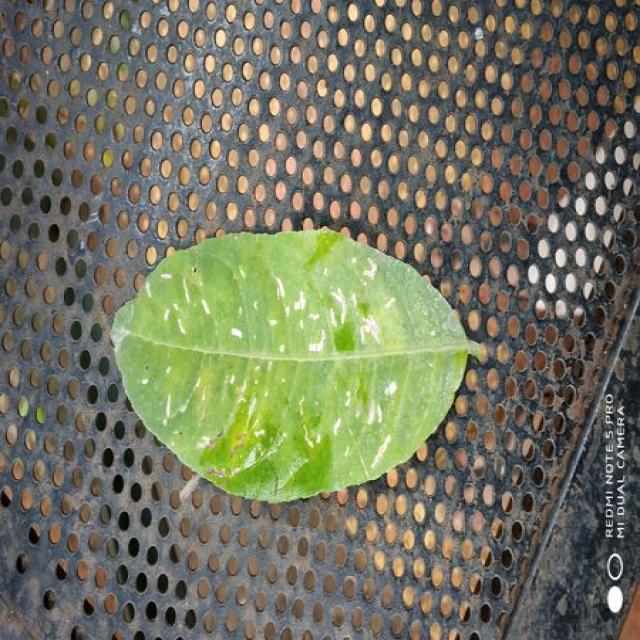badipala: (113, 230, 478, 501)
defectedbadipala: (123, 351, 465, 502), (115, 246, 467, 357)
